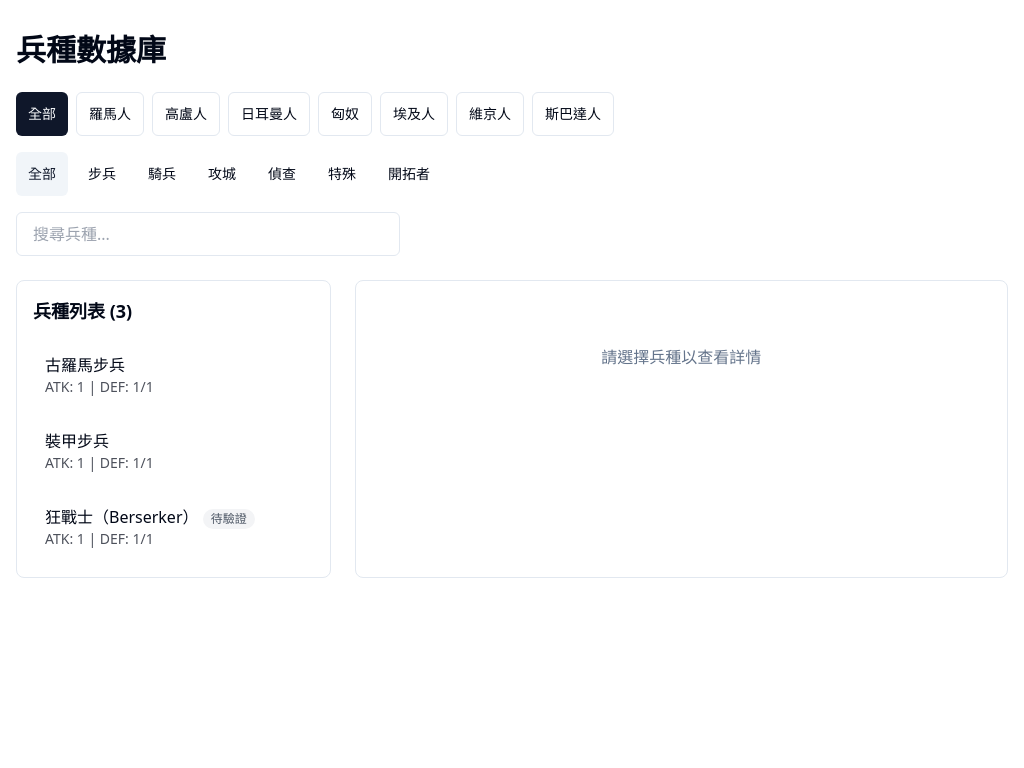
Scenario: TroopsPage: one 「待驗證」 chip for unit costs / upkeep / training time (P0-17) › 狂戰士（Berserker）: no units chip (Viking costs / upkeep / training time from official S139, P0-23)
Click the text "狂戰士（Berserker）" at x=122, y=517, box [45,506,198,528]
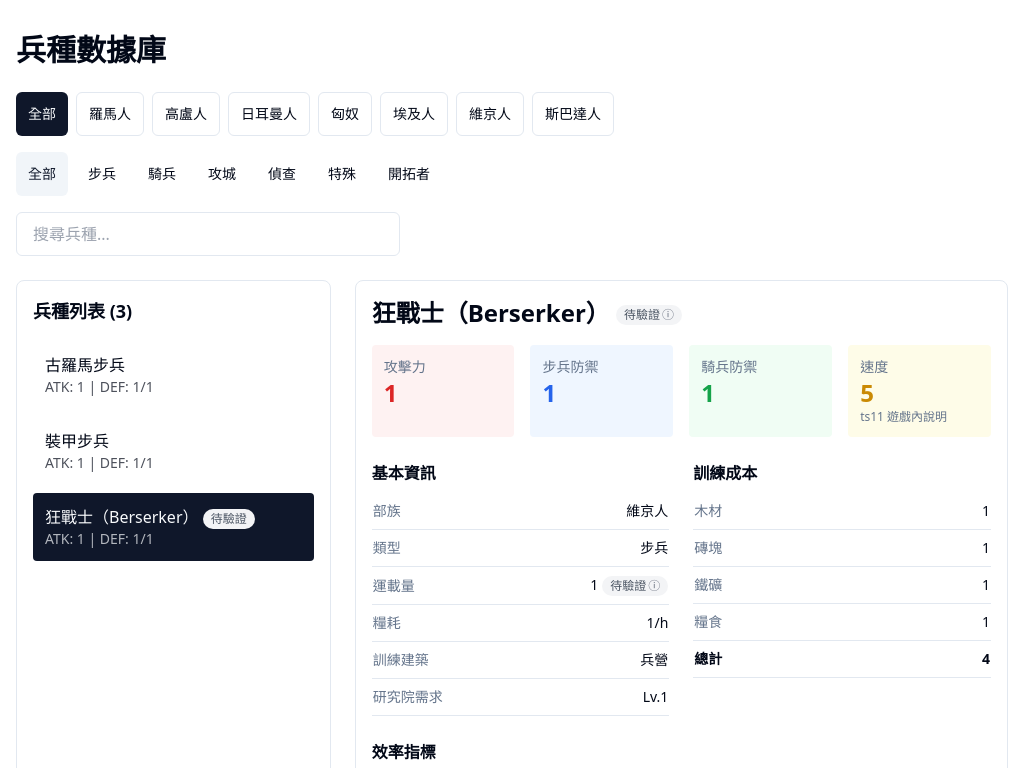
Expected: the heading "訓練成本" is shown, [693,462,757,484]
